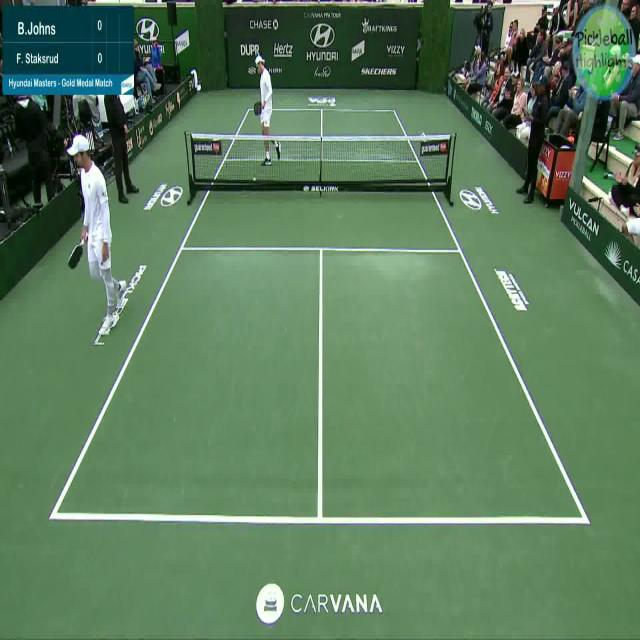ball: (252, 174, 256, 181)
